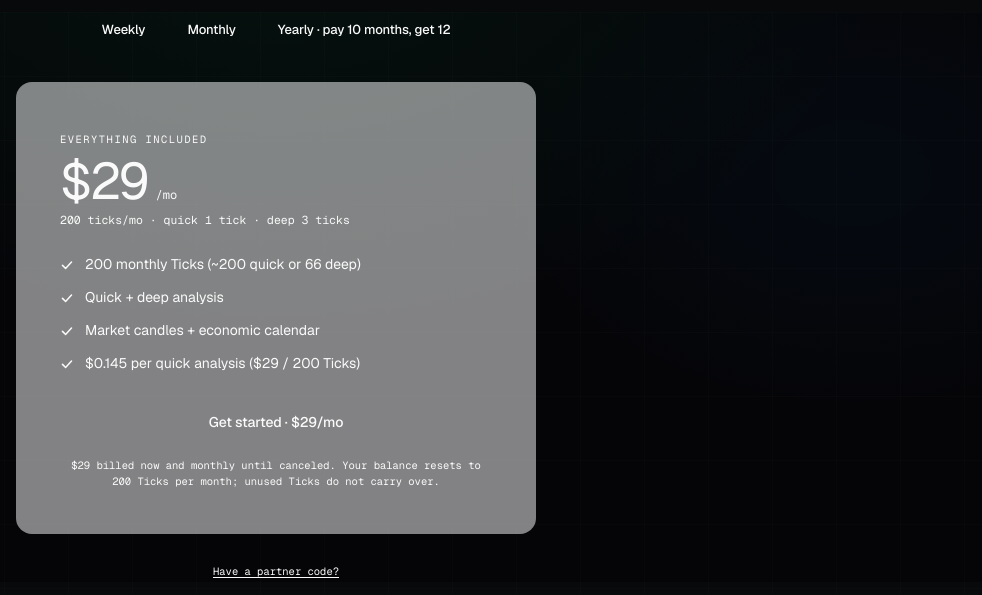
Test: PricingCards: precos sem oferta de lancamento › anual informa cobranca anual e franquia mensal sem custo unitario do mensal
Click the button "Yearly · pay 10 months, get 12" at (364, 30), box left=261, top=12, right=468, bottom=48
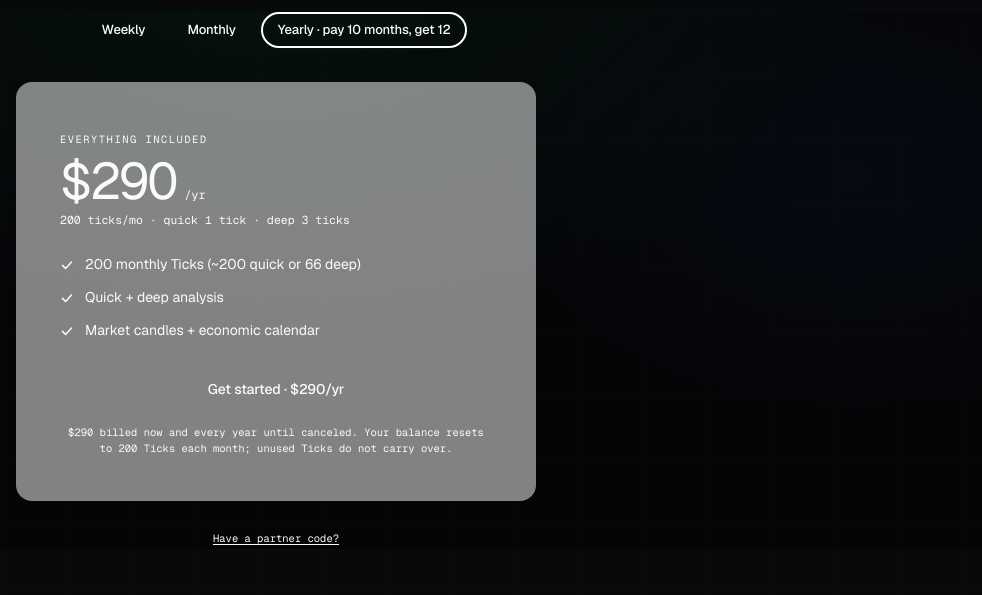
Check: the text "$290 billed now and every year until canceled" is shown, box left=68, top=426, right=484, bottom=455
Check: the list item "0.145" is gone
Check: the button "Get started · $290/yr" is shown, box left=60, top=368, right=492, bottom=412
